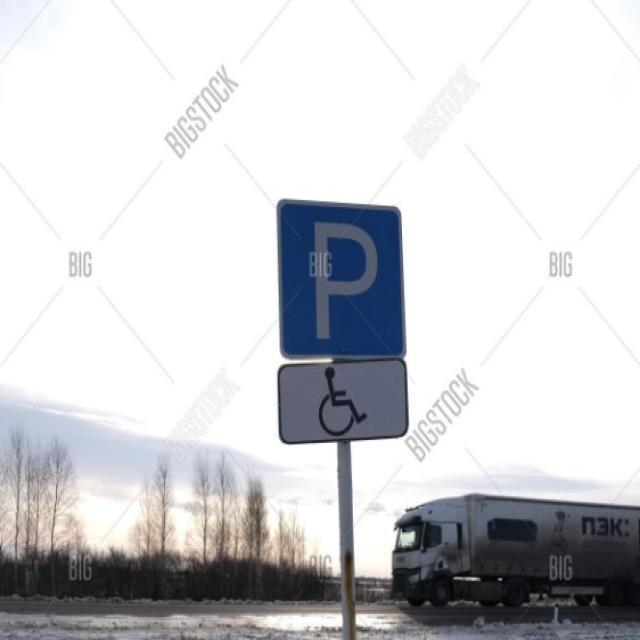symbol_of_access: (274, 360, 412, 445)
